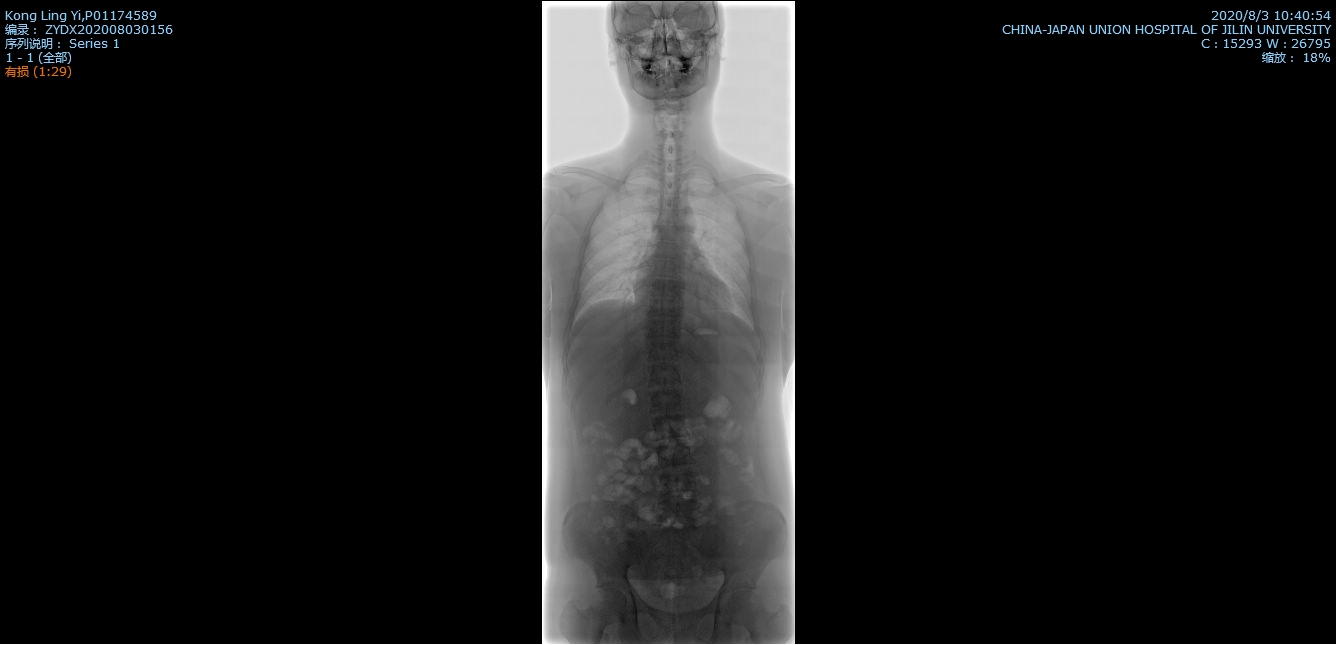Bone: (654, 445, 692, 466), (661, 499, 696, 521), (647, 391, 682, 411), (654, 414, 685, 436), (659, 473, 694, 492), (649, 366, 682, 386), (649, 341, 680, 361), (649, 297, 682, 315), (647, 319, 679, 337), (654, 258, 681, 275), (652, 279, 680, 295)
